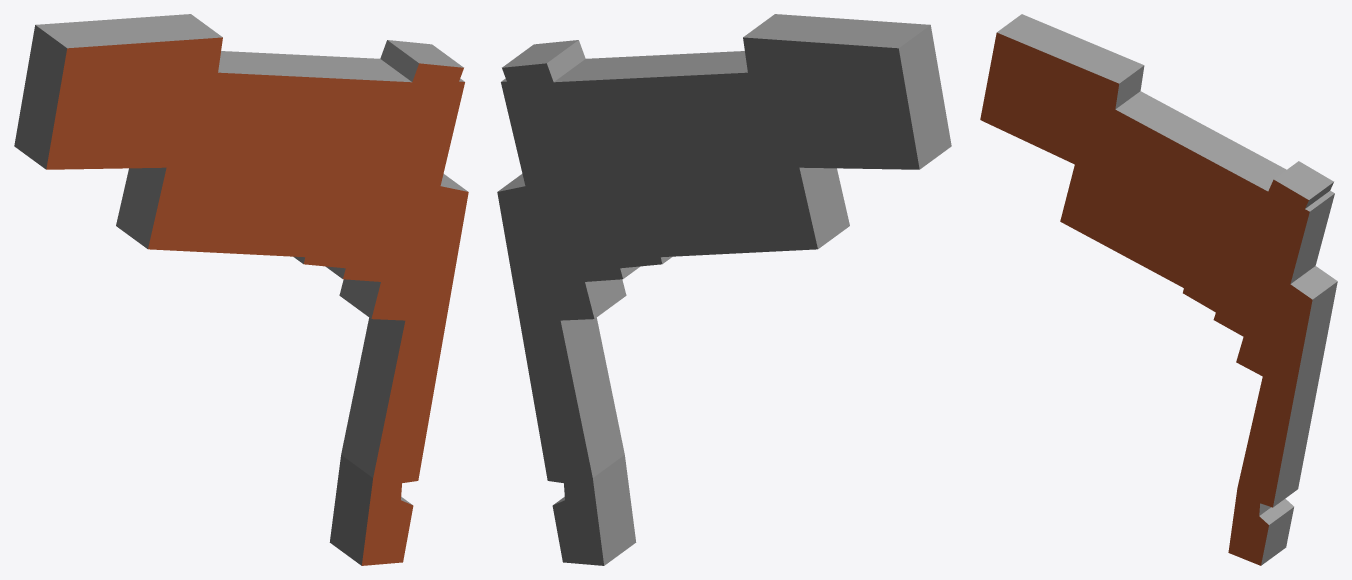
The model's file is construction_0329_assumed_A_Casa_h6m.obj.
3 renders of one model, left to right at view 1: azimuth 30°, elevation 25°; view 2: azimuth 150°, elevation 25°; view 3: azimuth 330°, elevation 25°, orthographic. The views are drawn at different scales.
Visible parts, largest first — view 1: construction_0329_assumed_A_Casa; view 2: construction_0329_assumed_A_Casa; view 3: construction_0329_assumed_A_Casa.
Boxes of the visible parts, x1,y1,x2,y2 form: construction_0329_assumed_A_Casa: [14, 14, 468, 565]; construction_0329_assumed_A_Casa: [497, 14, 951, 565]; construction_0329_assumed_A_Casa: [980, 14, 1337, 565].
Size of the model in its own units: 45.68 by 61.59 by 6.
